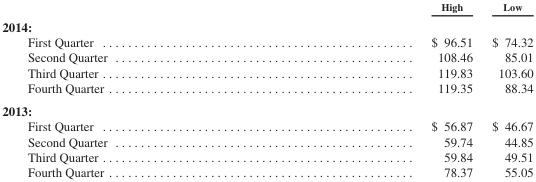table: (1, 0, 532, 179)
table column: (1, 0, 268, 179), (268, 0, 481, 179), (481, 0, 532, 179)
table column header: (1, 0, 532, 15)
table projected row header: (1, 98, 532, 118), (1, 15, 532, 34)
table row: (1, 98, 532, 118), (1, 15, 532, 34), (1, 80, 532, 98), (1, 64, 532, 80), (1, 148, 532, 164), (1, 0, 532, 15), (1, 34, 532, 49), (1, 49, 532, 64), (1, 118, 532, 133), (1, 133, 532, 148), (1, 164, 532, 179)
